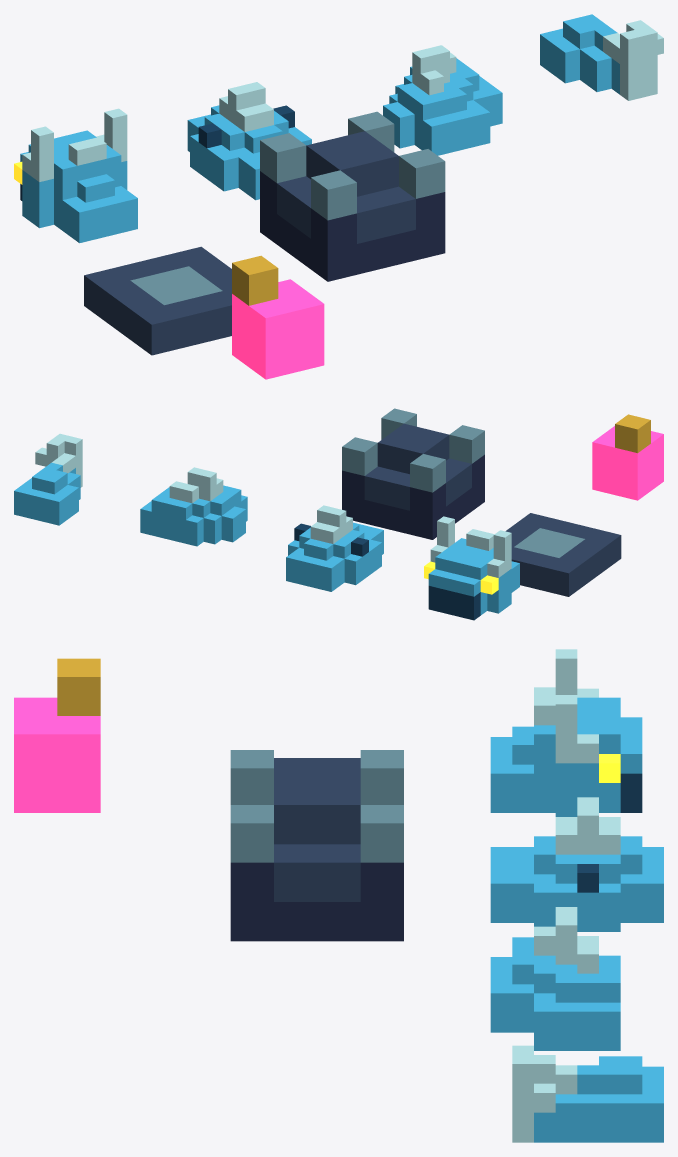
Rendered from dragon_kit.glb.
The picture shows the model from 3 angles, top to bottom: view 1: azimuth 30°, elevation 25°; view 2: azimuth 150°, elevation 25°; view 3: azimuth 270°, elevation 25°; orthographic projection. The views are drawn at different scales.
Parts seen in each view (by area): view 1: wall, floor, head, turn, food, tail, straight; view 2: wall, head, floor, straight, turn, food, tail; view 3: wall, head, straight, turn, tail, food, floor.
Part boxes in pixels (x1,y1,x2,y2): wall: [260, 111, 445, 281]; floor: [84, 246, 231, 355]; head: [14, 108, 137, 243]; turn: [383, 45, 502, 155]; food: [232, 255, 324, 379]; tail: [540, 14, 663, 100]; straight: [187, 82, 311, 200]; wall: [342, 408, 484, 539]; head: [424, 516, 519, 620]; floor: [505, 513, 621, 596]; straight: [286, 505, 383, 591]; turn: [140, 467, 247, 546]; food: [592, 414, 663, 500]; tail: [14, 433, 82, 525]; wall: [230, 750, 403, 941]; head: [490, 649, 642, 816]; straight: [490, 797, 663, 931]; turn: [490, 907, 620, 1050]; tail: [512, 1045, 663, 1142]; food: [14, 658, 100, 812]; floor: [274, 758, 360, 768].
Size of the model in its own units: 5.38 by 1 by 3.75.
